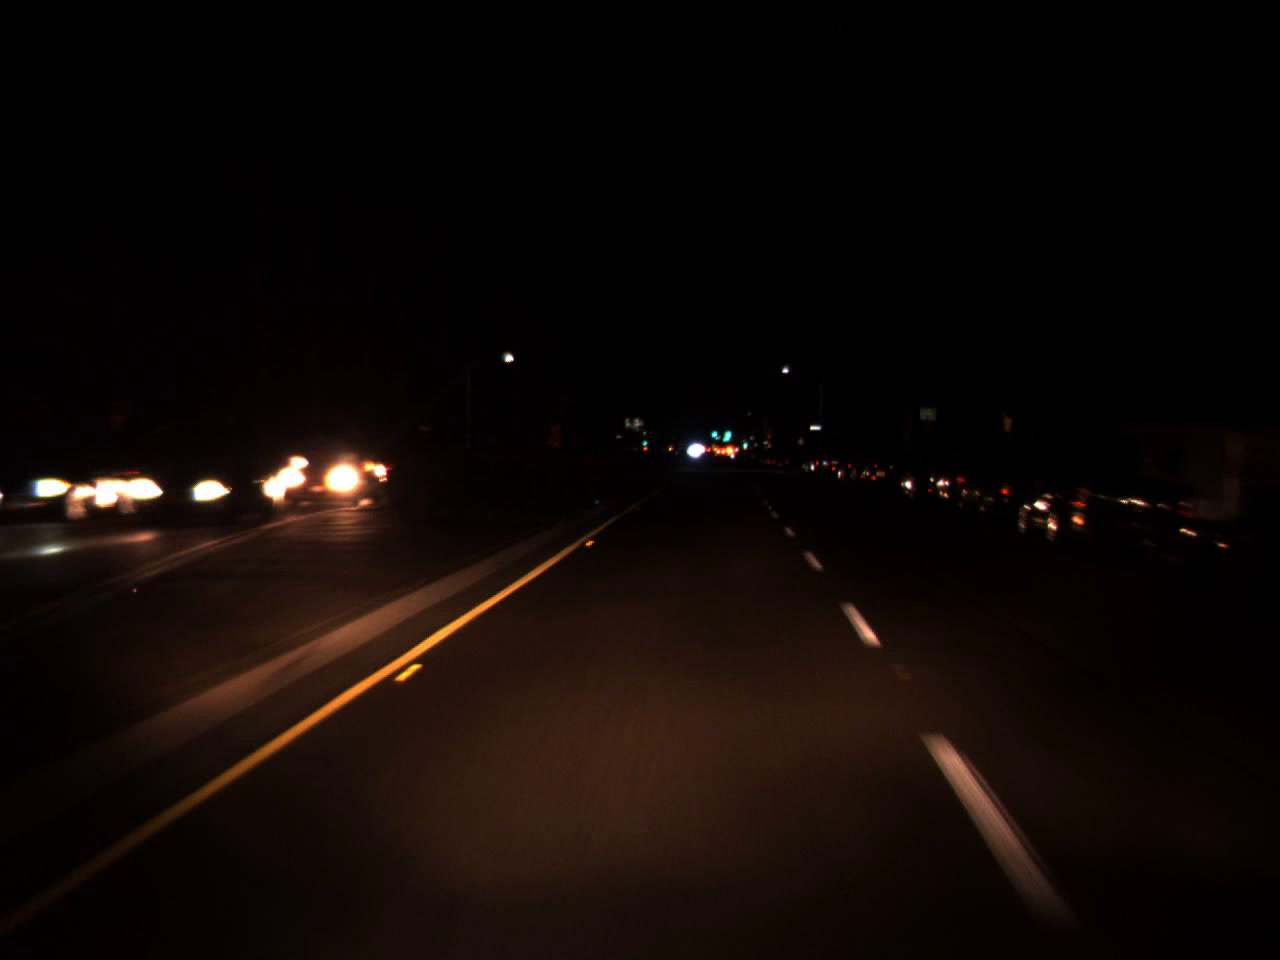go: (720, 418, 732, 442), (708, 422, 718, 440), (639, 432, 649, 447), (740, 436, 749, 448)
